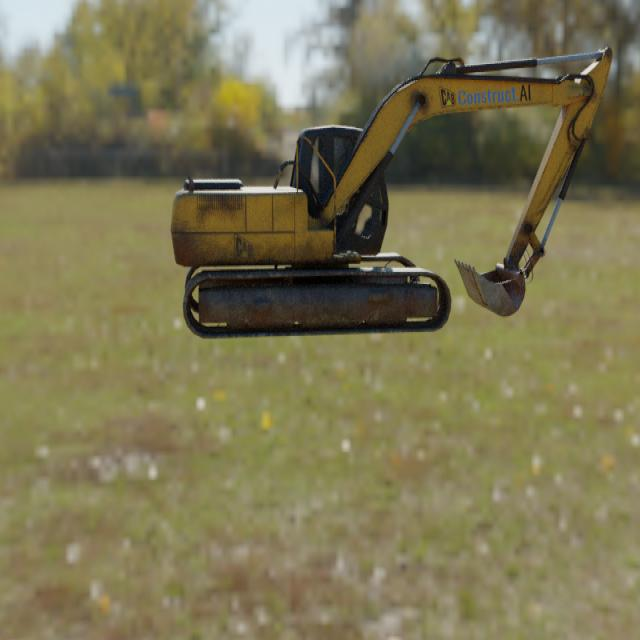excavator: (169, 46, 613, 338)
